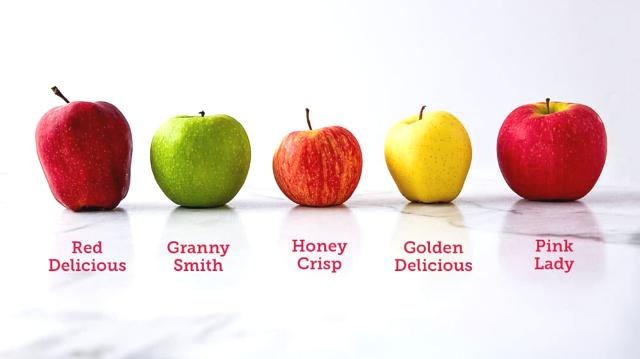green apple: (151, 116, 252, 210)
red apple: (496, 102, 606, 207), (274, 127, 363, 208)
